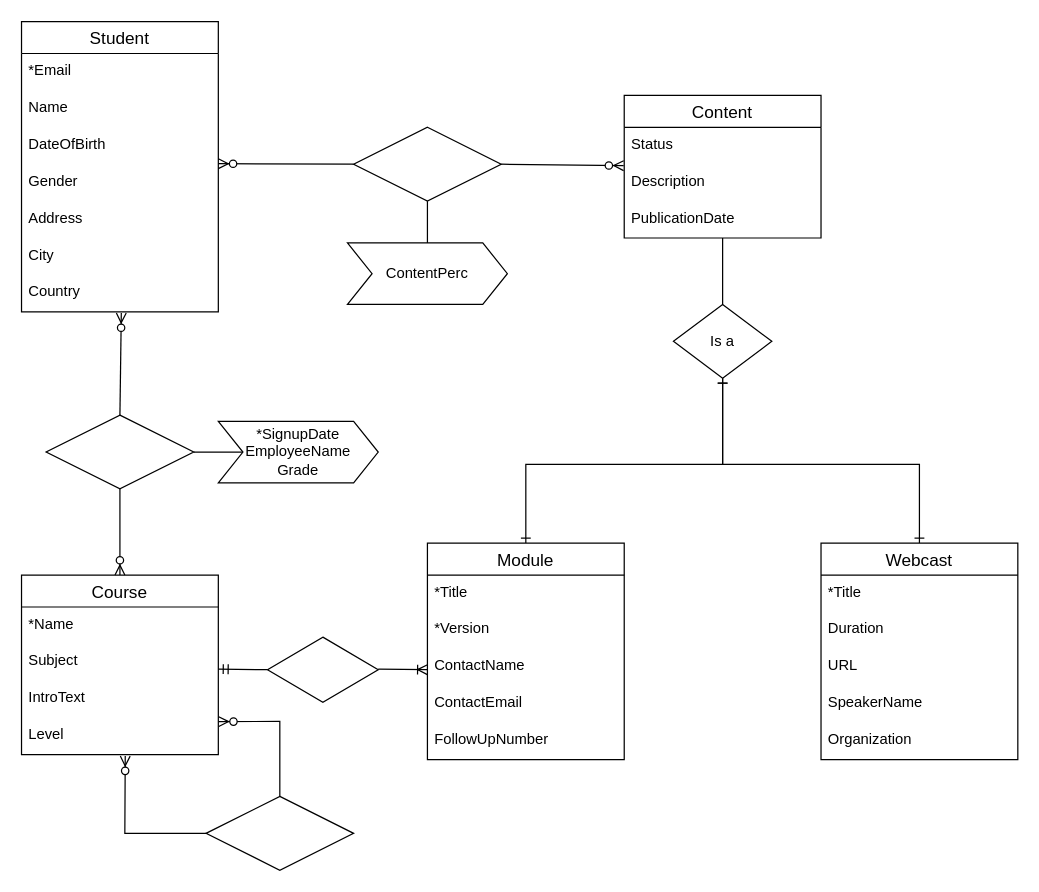
The diagram is 1039 pixels wide and 892 high, and some of its shapes have lost their labels. The shapes that lost their labels are listed below. From the top down, each one's centre as x and y in pixels, then its label:
At [426,163]: "Views".
At [119,451]: "Signs up to".
At [322,669]: "Has".
At [279,832]: "Is interesting to".
